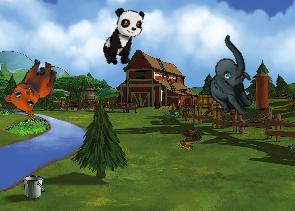bear: (1, 51, 60, 120)
elephant: (187, 34, 275, 123)
panda: (99, 4, 147, 70)
